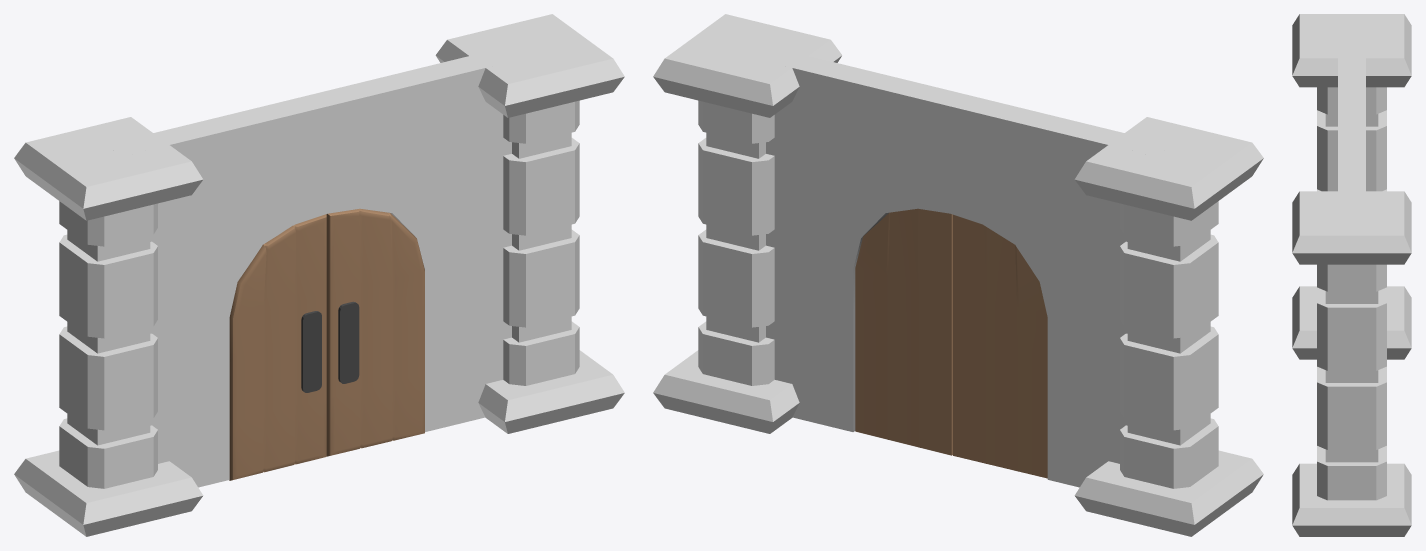
File: WallwithGate.fbx
The picture shows the model from 3 angles, left to right: view 1: azimuth 30°, elevation 25°; view 2: azimuth 150°, elevation 25°; view 3: azimuth 270°, elevation 25°; orthographic projection. The views are drawn at different scales.
Visible parts, largest first — view 1: polySurface12, polySurface10, polySurface8; view 2: polySurface12, polySurface10, polySurface8; view 3: polySurface12.
Boxes of the visible parts, <box> form: polySurface12: <box>14,14,624,536</box>; polySurface10: <box>326,208,424,456</box>; polySurface8: <box>229,214,326,480</box>; polySurface12: <box>653,14,1263,536</box>; polySurface10: <box>855,208,952,455</box>; polySurface8: <box>953,214,1047,478</box>; polySurface12: <box>1292,14,1411,536</box>.
Bounding box in the file's own units: 1542 × 953 × 342.
